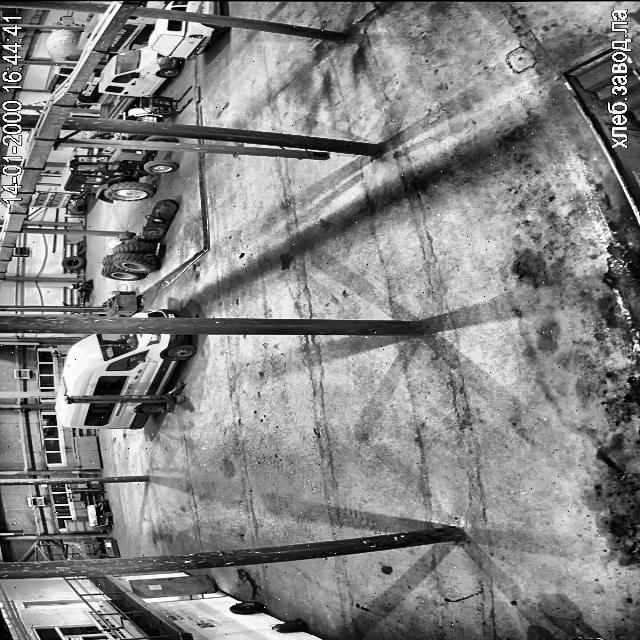class4: (569, 637, 604, 640)
class6: (60, 148, 178, 202), (140, 136, 177, 142)
class7: (55, 333, 196, 428), (100, 47, 179, 117), (148, 20, 228, 60), (108, 16, 156, 52), (78, 14, 105, 47), (165, 0, 219, 14), (45, 66, 73, 92), (76, 76, 100, 104), (132, 308, 178, 317), (140, 0, 164, 8)
tractor: (272, 619, 306, 632)
truck: (65, 384, 185, 412)
